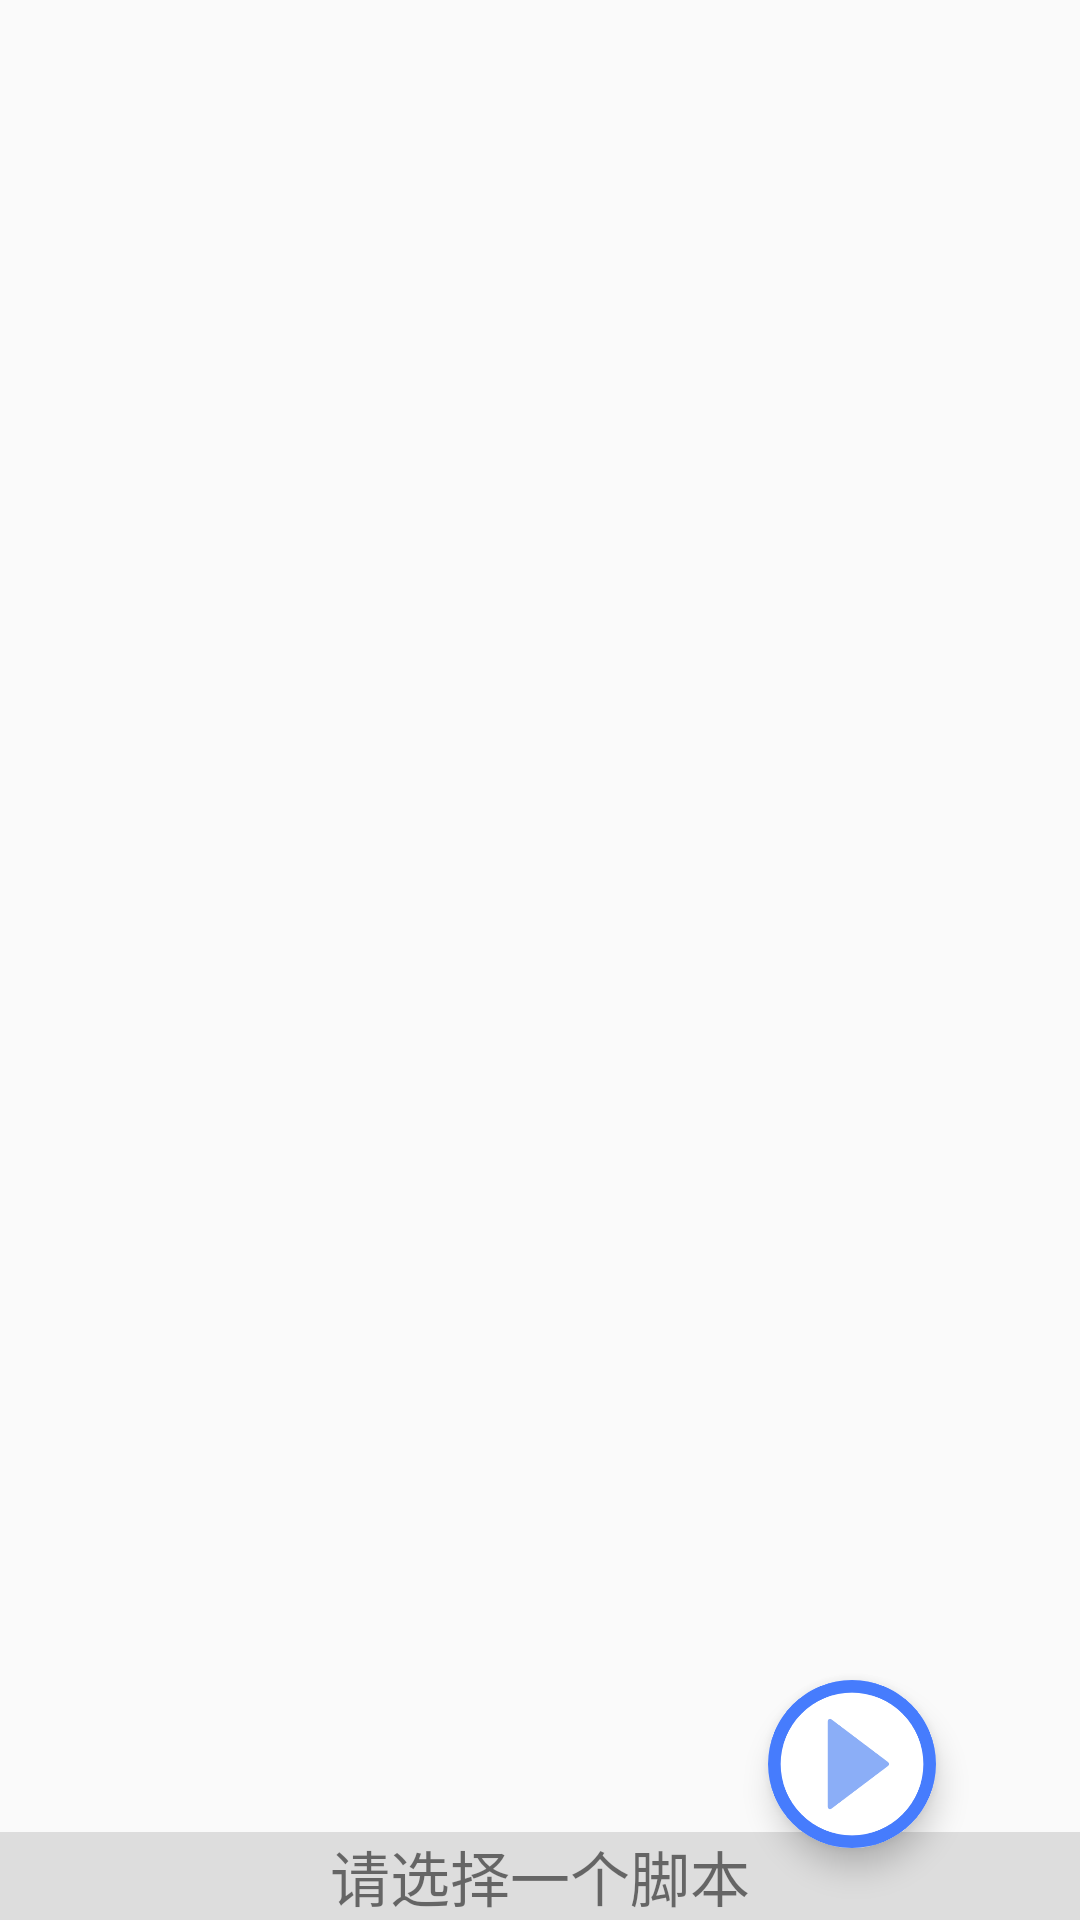

Locate icon controls on the screen. Image size 1080 x 1920, boxes as BBox(x1, y1, x2, y2).
start: BBox(768, 1680, 936, 1848)
